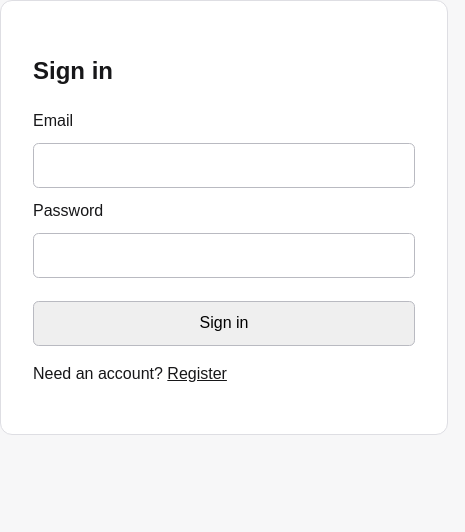
Test: authentication forms › maps login general and field errors
expect the button "Sign in" is enabled: met, box x1=33 y1=301 x2=415 y2=346
Type "invalid@example.com" into the field labelled "Email" at (224, 166), box x1=33 y1=143 x2=415 y2=188
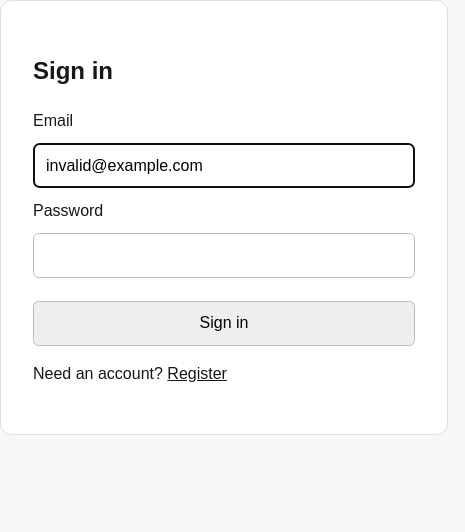
Type "password" into the password field labelled "Password" at (224, 256), box x1=33 y1=233 x2=415 y2=278
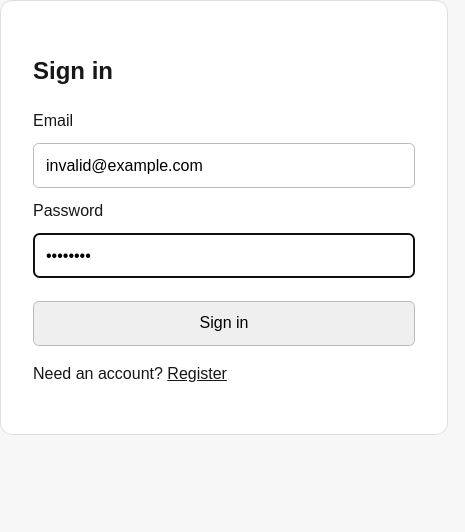
Click the button "Sign in" at (224, 323), box x1=33 y1=301 x2=415 y2=346
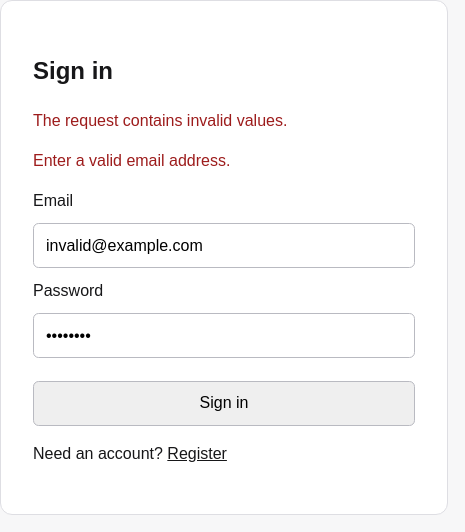
expect the message reads "The request contains invalid values.": met, box x1=33 y1=112 x2=287 y2=129
expect the text "Enter a valid email address." is shown: met, box x1=33 y1=152 x2=230 y2=169
